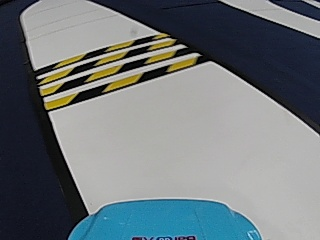bump: (45, 39, 167, 104)
